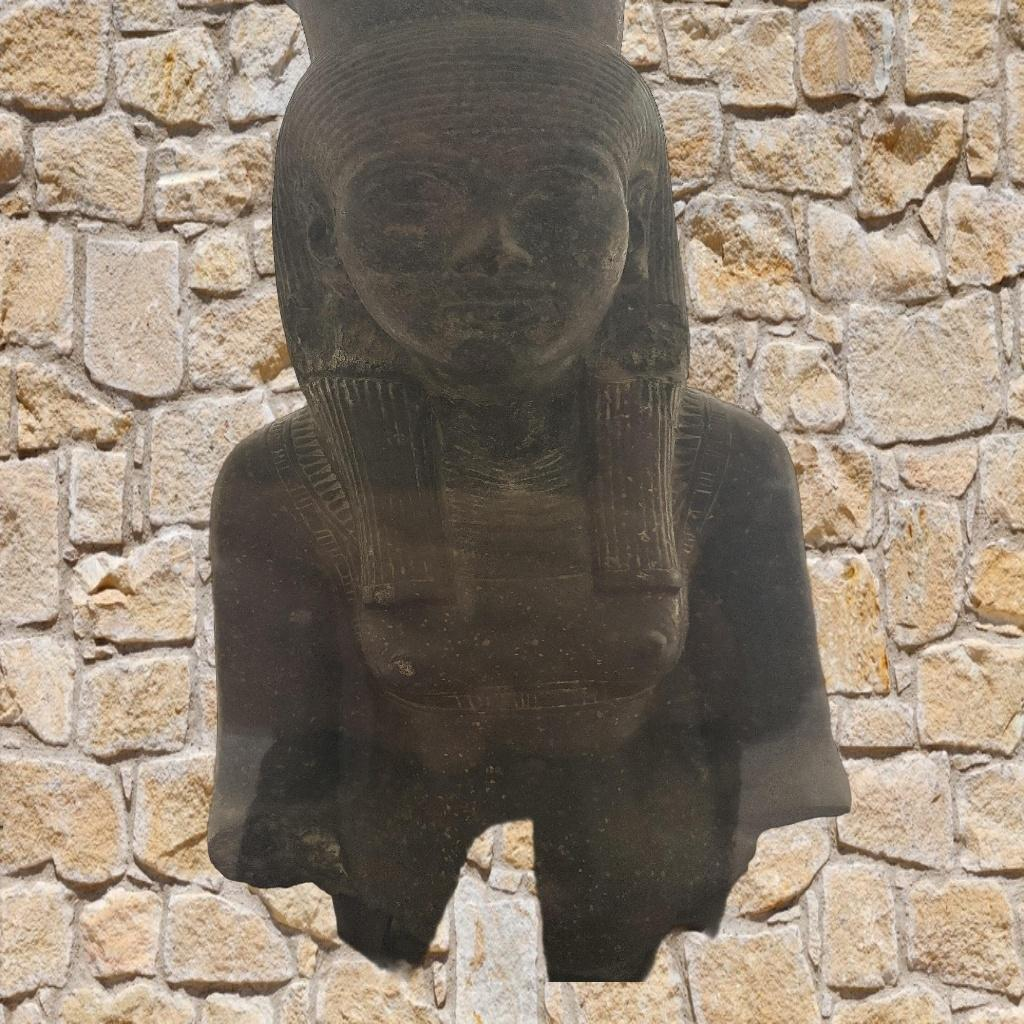Bust of Isis: (201, 0, 858, 982)
